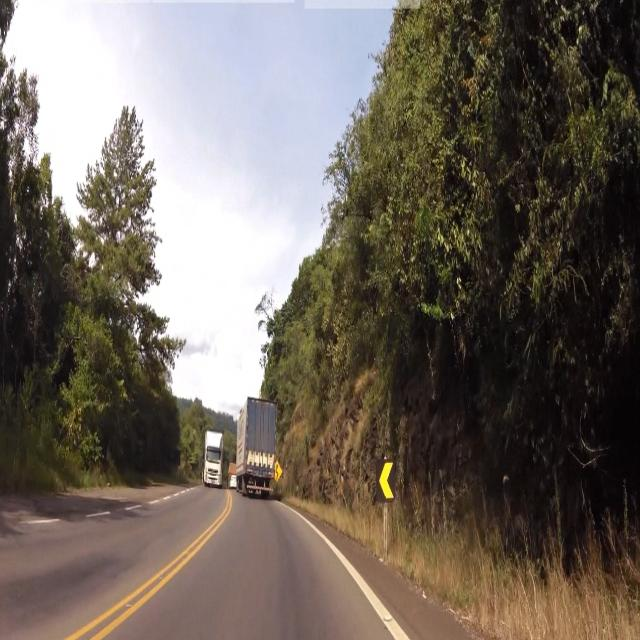Del: (374, 458, 400, 507)
